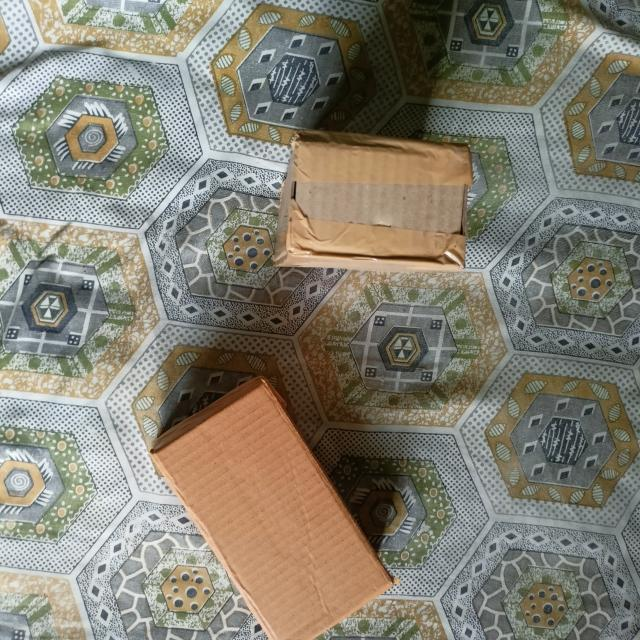box: (154, 384, 398, 640), (282, 138, 468, 269)
